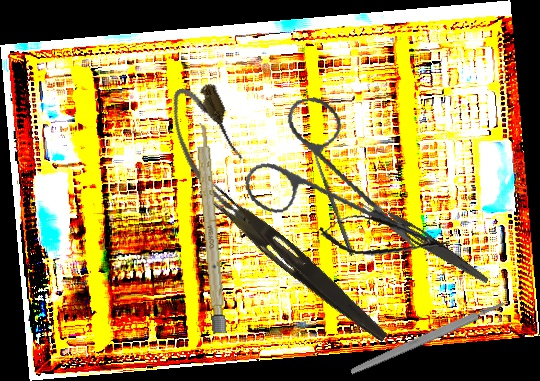Cannula: (160, 76, 272, 246)
Dressing Forceps: (193, 178, 396, 346), (356, 192, 494, 287)
Iris Scissors: (232, 82, 426, 277)
Micro Scissor: (316, 209, 453, 266)
Scalpel Handle: (349, 299, 506, 377), (194, 122, 227, 334)
Surgical Spoon: (310, 144, 355, 257)
